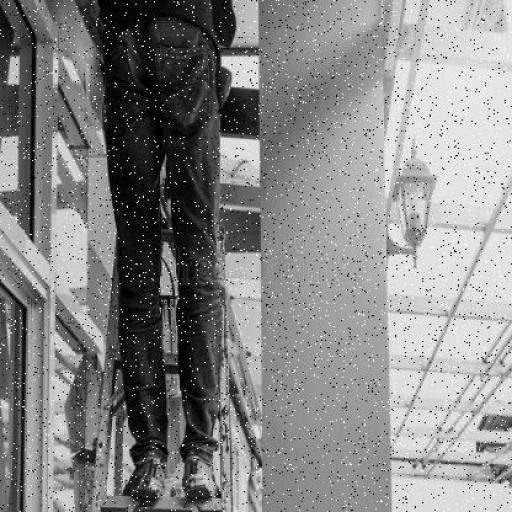safety_shoe: (184, 456, 222, 505), (128, 454, 165, 502)
